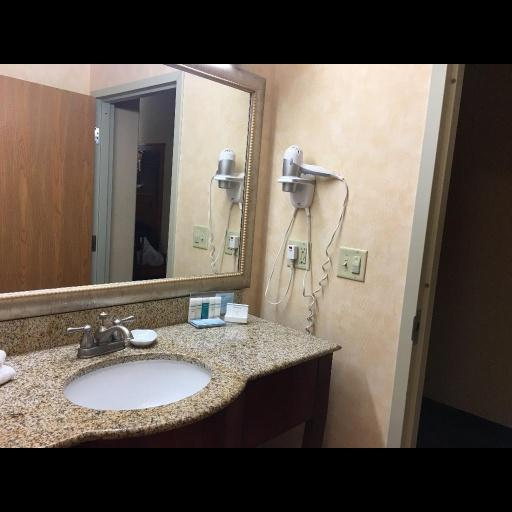clean mirror: (2, 59, 259, 287)
clean_sink: (0, 282, 340, 456)
